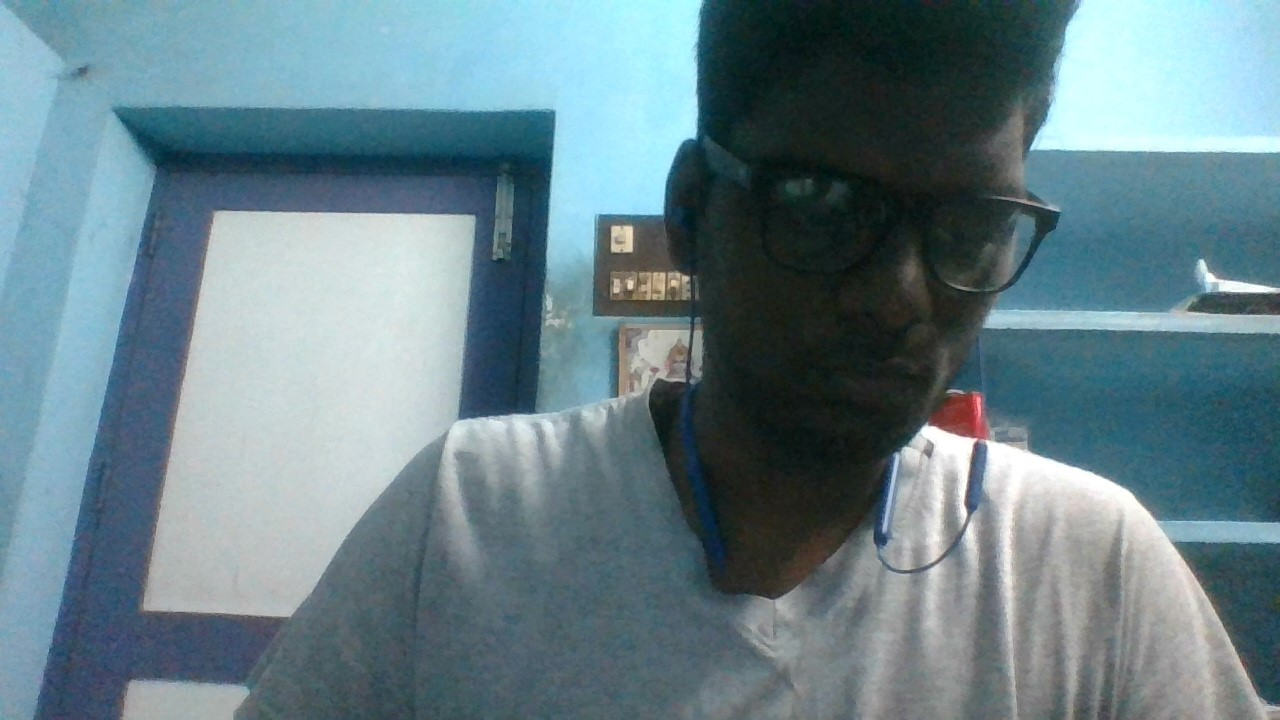person: (321, 3, 1178, 720)
